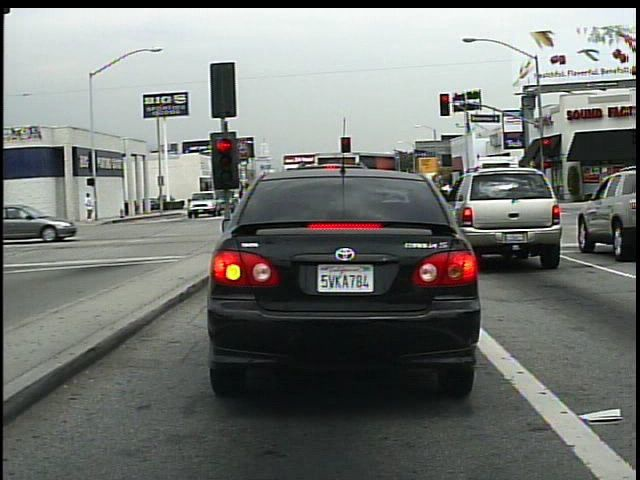person: (82, 191, 97, 223)
